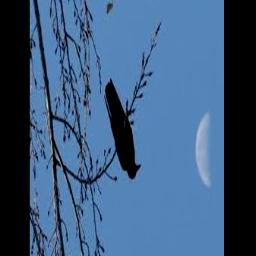Crow: (104, 77, 141, 181)
